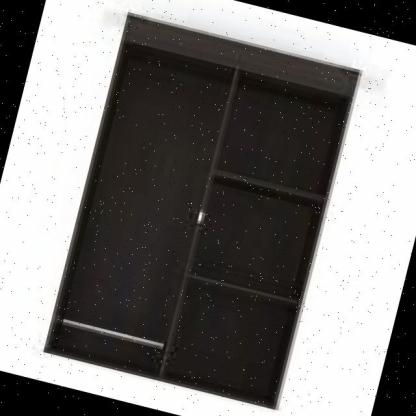Closet: (36, 4, 366, 416)
